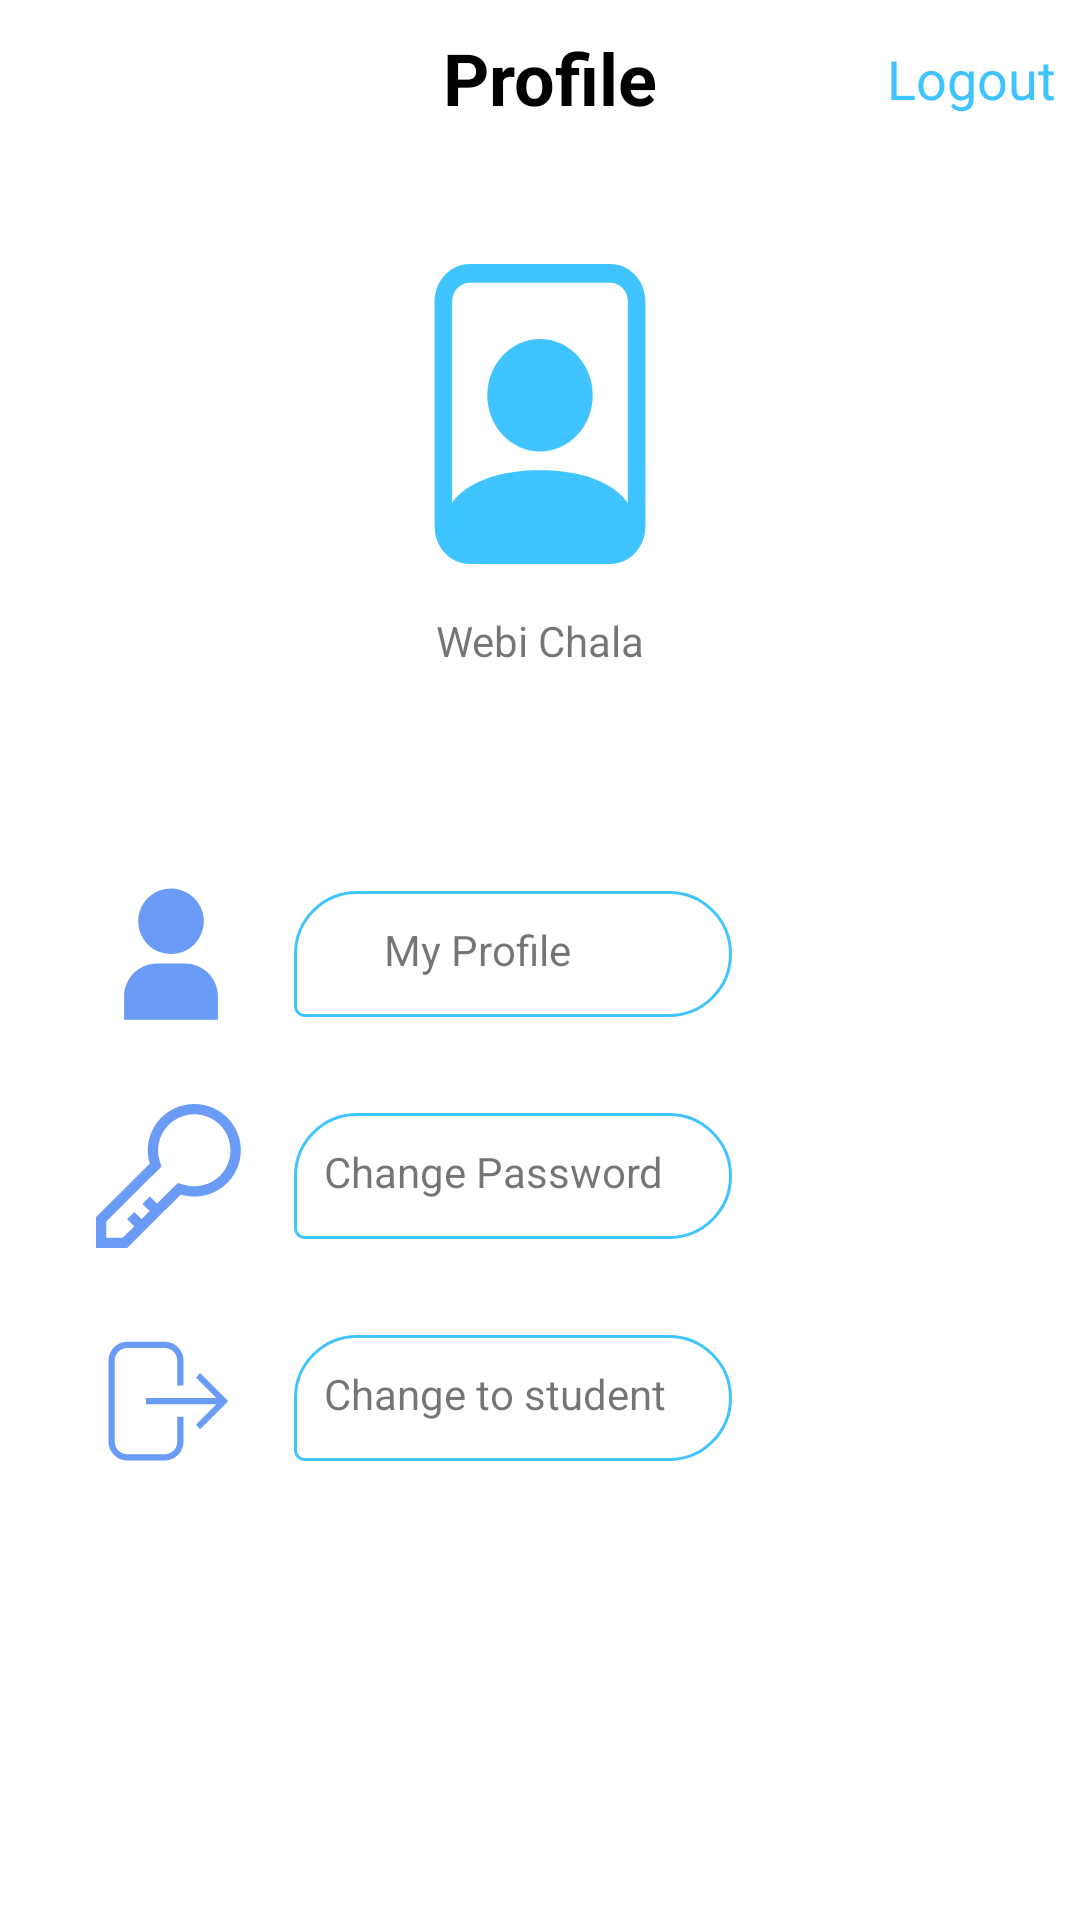

Icons on this 1080×1920 Android screen, each with its box as (x1, y1, x2, y2):
password key: (96, 1104, 241, 1248)
user: (124, 888, 218, 1020)
